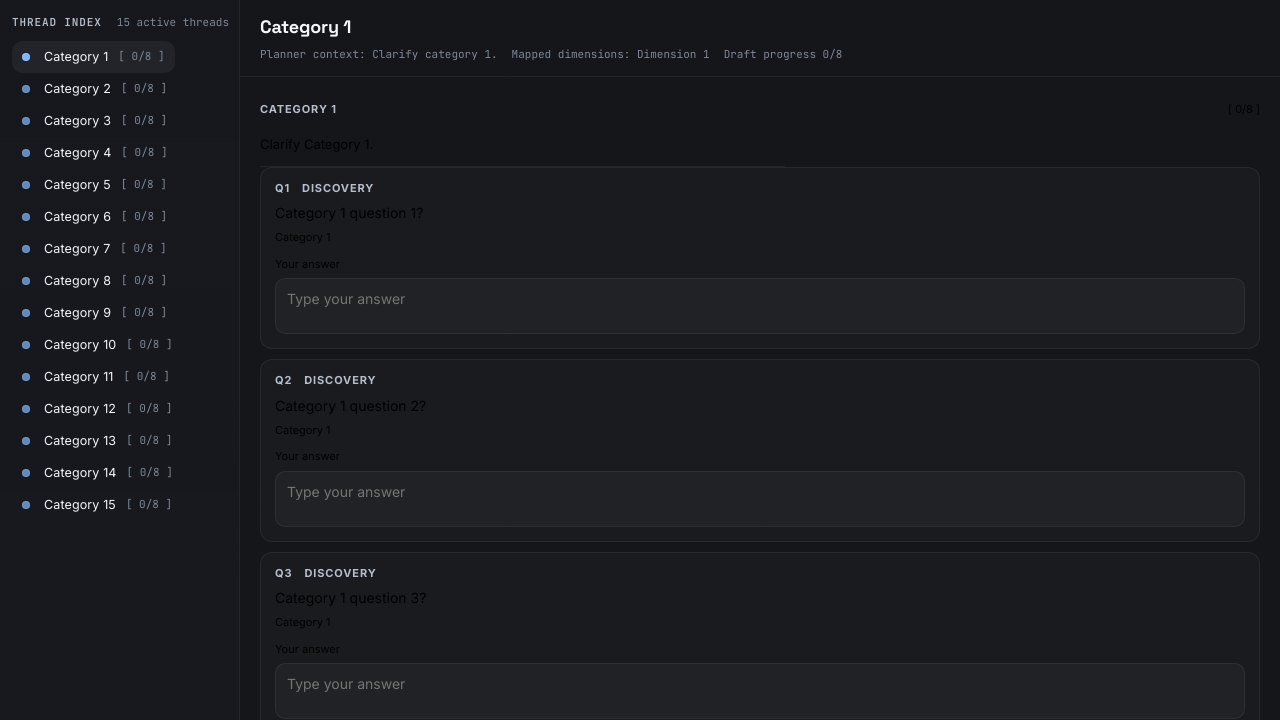
Test: SocraticWorkspace performance guardrail › keeps a seeded 15-category / 120-question desk responsive for a single keystroke
Type "x" into the text box named "Custom text for category-1-question-1" at [760, 306], box [275,278,1245,334]
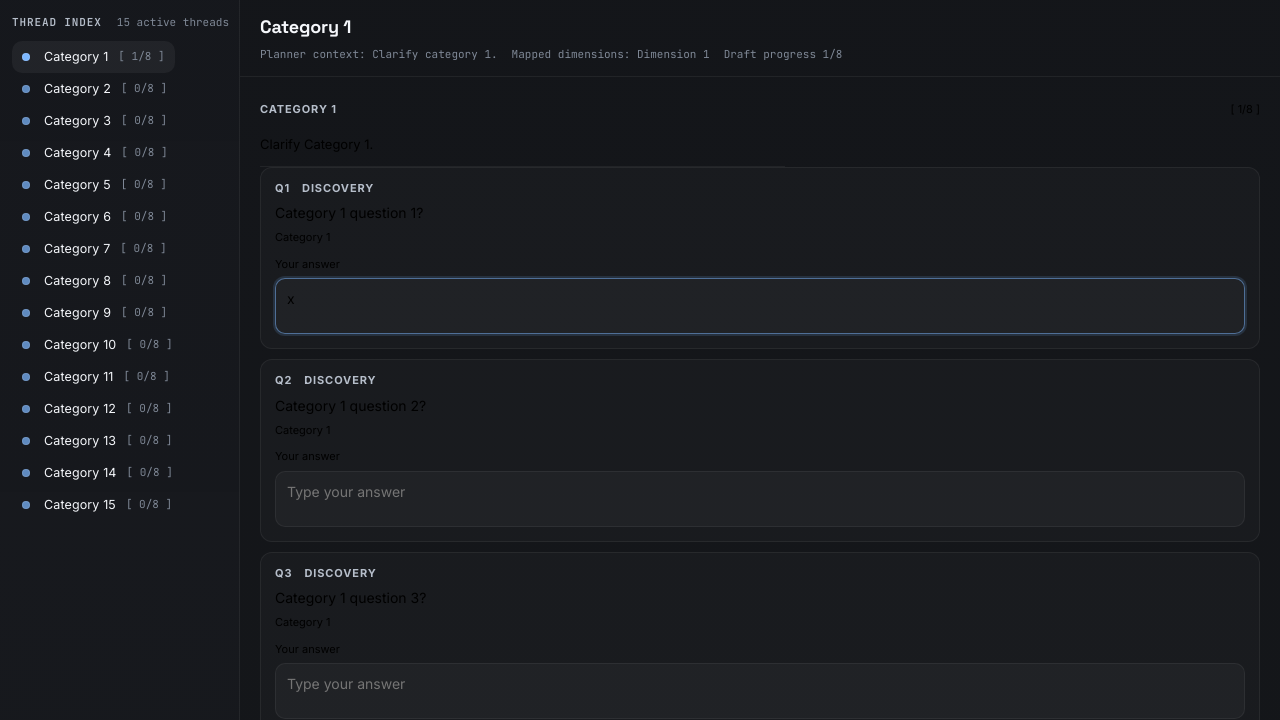
Result: the button "Category 1 [ 1/8 ]" is shown at [12,40,174,72]
